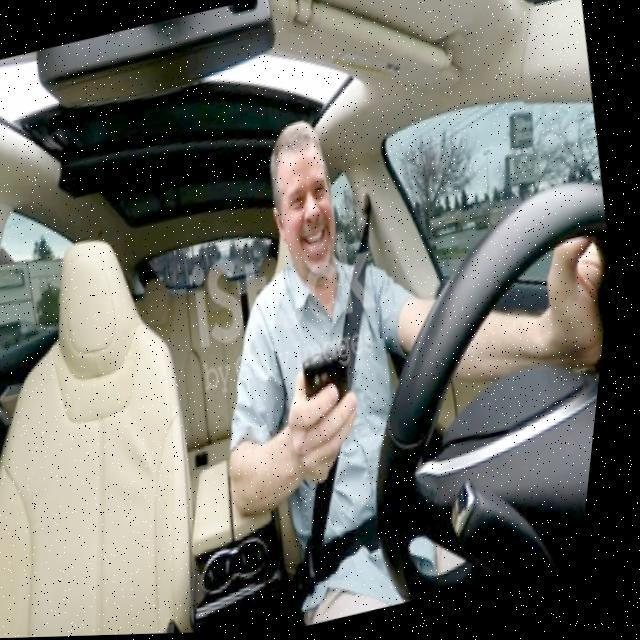PhoneCall: (302, 346, 372, 433)
